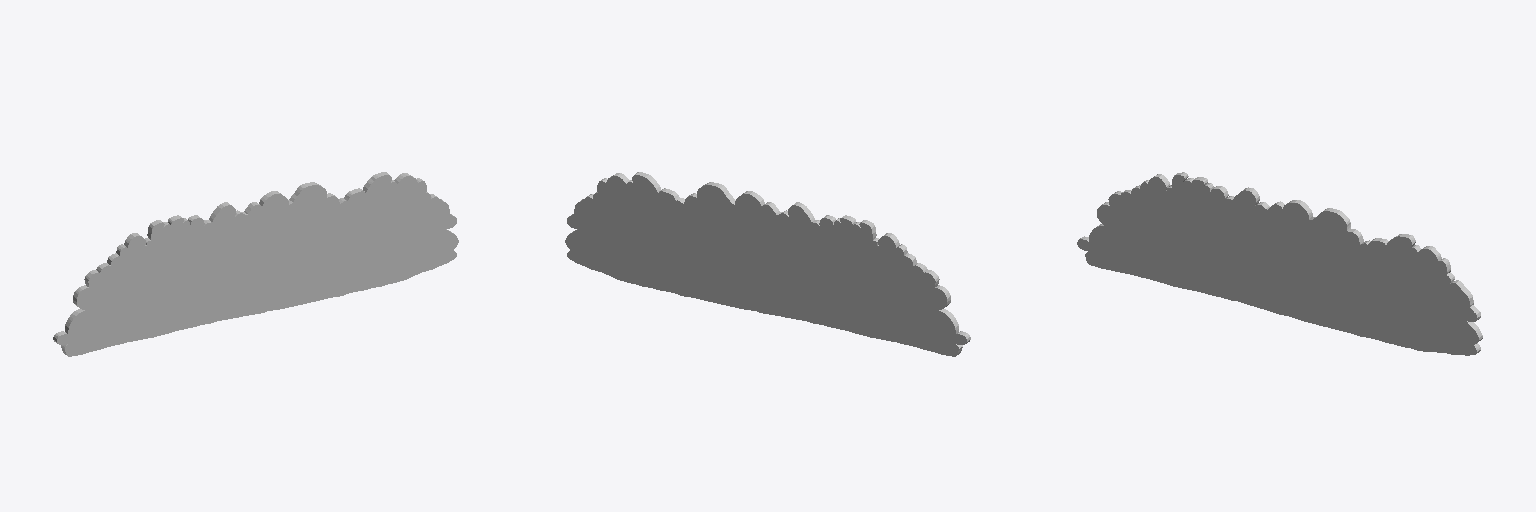
File: planta2.obj
The picture shows the model from 3 angles: view 1: azimuth 30°, elevation 25°; view 2: azimuth 150°, elevation 25°; view 3: azimuth 330°, elevation 25°; orthographic projection.
Visible parts, largest first — view 1: Cube.005; view 2: Cube.005; view 3: Cube.005.
Part boxes in pixels (x1,y1,x2,y2): Cube.005: (53, 172, 458, 356); Cube.005: (565, 172, 970, 356); Cube.005: (1077, 172, 1482, 355).
Bounding box in the file's own units: 9.27 × 2.62 × 0.1537.